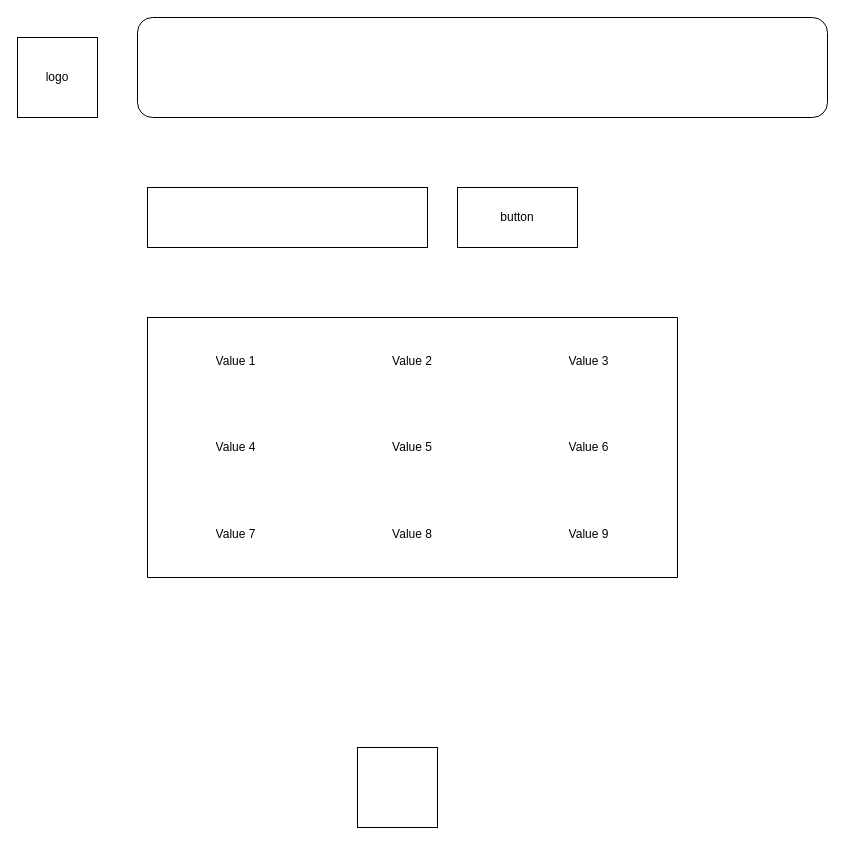
Some shapes in this 845 by 845 pixel diagram are drawn without their labels. The shapes that lost their labels are listed below. From the top down, each one's centre as x and y in pixels, then its label:
the point at 482,67: navbar
the point at 287,217: text search box
